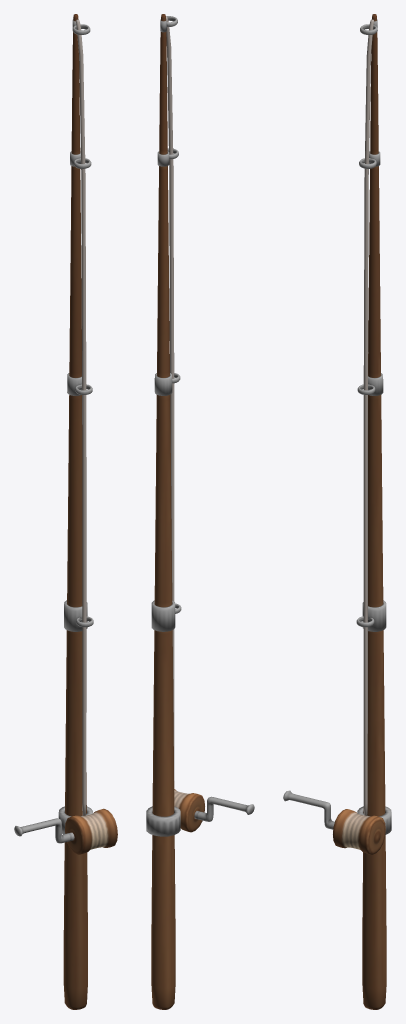
Rendered from FishingRod.glb.
3 renders of one model, left to right at view 1: azimuth 30°, elevation 25°; view 2: azimuth 150°, elevation 25°; view 3: azimuth 330°, elevation 25°, orthographic.
Visible parts, largest first — view 1: SM_FishingRod; view 2: SM_FishingRod; view 3: SM_FishingRod.
Boxes of the visible parts, x1,y1,x2,y2 form: SM_FishingRod: [14, 14, 117, 1009]; SM_FishingRod: [146, 14, 254, 1009]; SM_FishingRod: [283, 14, 391, 1009].
Size of the model in its own units: 0.1847 by 1.9 by 0.1169.
Materials: 2 (1 with a texture image).
